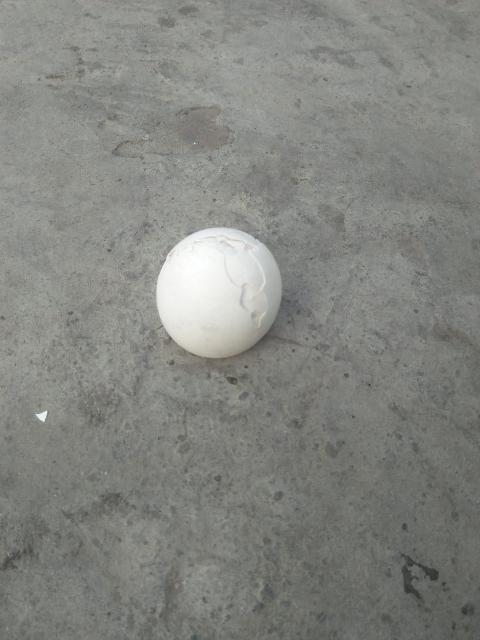Roto: (155, 226, 282, 359)
